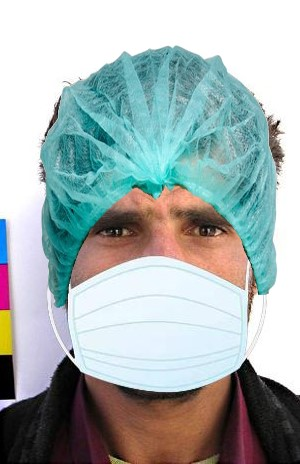with_mask_and_cap: (43, 49, 275, 391)
